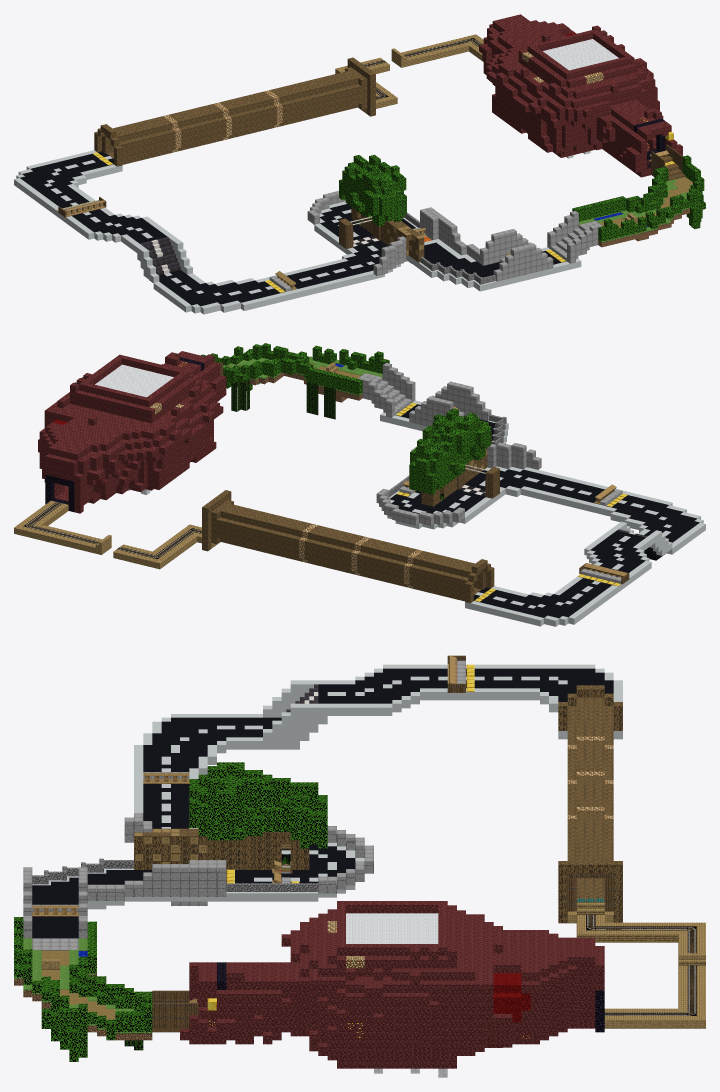
3 renders of one model, top to bottom at view 1: azimuth 30°, elevation 25°; view 2: azimuth 150°, elevation 25°; view 3: azimuth 270°, elevation 25°, orthographic. The views are drawn at different scales.
Parts seen in each view (by area): view 1: course-SKP--netherrack, course-SKP--log_oak_side, course-SKP--white_concrete, course-SKP--black_concrete, course-SKP--leaves_oak, course-SKP--smooth_stone, course-SKP--oak_planks, course-SKP--smooth_stone_slab_side, course-SKP--carpet_white, course-SKP--spruce_trapdoor, course-SKP--glowstone, course-SKP--polished_blackstone (+3 smaller); view 2: course-SKP--netherrack, course-SKP--log_oak_side, course-SKP--leaves_oak, course-SKP--black_concrete, course-SKP--white_concrete, course-SKP--smooth_stone, course-SKP--oak_planks, course-SKP--smooth_stone_slab_side, course-SKP--carpet_white, course-SKP--vines, course-SKP--glowstone, course-SKP--rails (+6 smaller); view 3: course-SKP--netherrack, course-SKP--leaves_oak, course-SKP--black_concrete, course-SKP--log_oak_side, course-SKP--white_concrete, course-SKP--smooth_stone, course-SKP--oak_planks, course-SKP--carpet_white, course-SKP--spruce_trapdoor, course-SKP--cobblestone, course-SKP--smooth_stone_slab_side, course-SKP--rails (+7 smaller).
Boxes of the visible parts, left/top/right/bottom form: course-SKP--netherrack: left=479, top=14, right=682, bottom=177; course-SKP--log_oak_side: left=94, top=57, right=424, bottom=262; course-SKP--white_concrete: left=14, top=150, right=581, bottom=314; course-SKP--black_concrete: left=20, top=151, right=566, bottom=306; course-SKP--leaves_oak: left=339, top=154, right=705, bottom=241; course-SKP--smooth_stone: left=63, top=191, right=602, bottom=288; course-SKP--oak_planks: left=335, top=34, right=636, bottom=223; course-SKP--smooth_stone_slab_side: left=69, top=194, right=592, bottom=291; course-SKP--carpet_white: left=543, top=39, right=618, bottom=158; course-SKP--spruce_trapdoor: left=58, top=135, right=685, bottom=248; course-SKP--glowstone: left=163, top=51, right=635, bottom=152; course-SKP--polished_blackstone: left=140, top=237, right=180, bottom=275; course-SKP--netherrack: left=38, top=351, right=226, bottom=513; course-SKP--log_oak_side: left=202, top=434, right=498, bottom=603; course-SKP--leaves_oak: left=201, top=343, right=491, bottom=494; course-SKP--black_concrete: left=389, top=404, right=699, bottom=618; course-SKP--white_concrete: left=380, top=400, right=705, bottom=626; course-SKP--smooth_stone: left=358, top=362, right=621, bottom=580; course-SKP--oak_planks: left=14, top=362, right=338, bottom=569; course-SKP--smooth_stone_slab_side: left=368, top=369, right=622, bottom=583; course-SKP--carpet_white: left=95, top=364, right=173, bottom=494; course-SKP--vines: left=227, top=378, right=335, bottom=419; course-SKP--glowstone: left=149, top=402, right=422, bottom=588; course-SKP--rails: left=27, top=502, right=201, bottom=557; course-SKP--netherrack: left=180, top=901, right=604, bottom=1068; course-SKP--leaves_oak: left=14, top=762, right=327, bottom=1061; course-SKP--black_concrete: left=32, top=668, right=613, bottom=938; course-SKP--log_oak_side: left=134, top=685, right=622, bottom=923; course-SKP--white_concrete: left=32, top=664, right=622, bottom=909; course-SKP--smooth_stone: left=23, top=660, right=465, bottom=950; course-SKP--oak_planks: left=41, top=844, right=705, bottom=1028; course-SKP--carpet_white: left=346, top=913, right=447, bottom=1077; course-SKP--spruce_trapdoor: left=152, top=655, right=613, bottom=1028; course-SKP--cobblestone: left=32, top=858, right=318, bottom=891; course-SKP--smooth_stone_slab_side: left=23, top=776, right=373, bottom=911; course-SKP--rails: left=586, top=914, right=696, bottom=1015.
Size of the model in its own units: 78334 by 12636 by 59231.
Materials: 58 (58 with a texture image).
